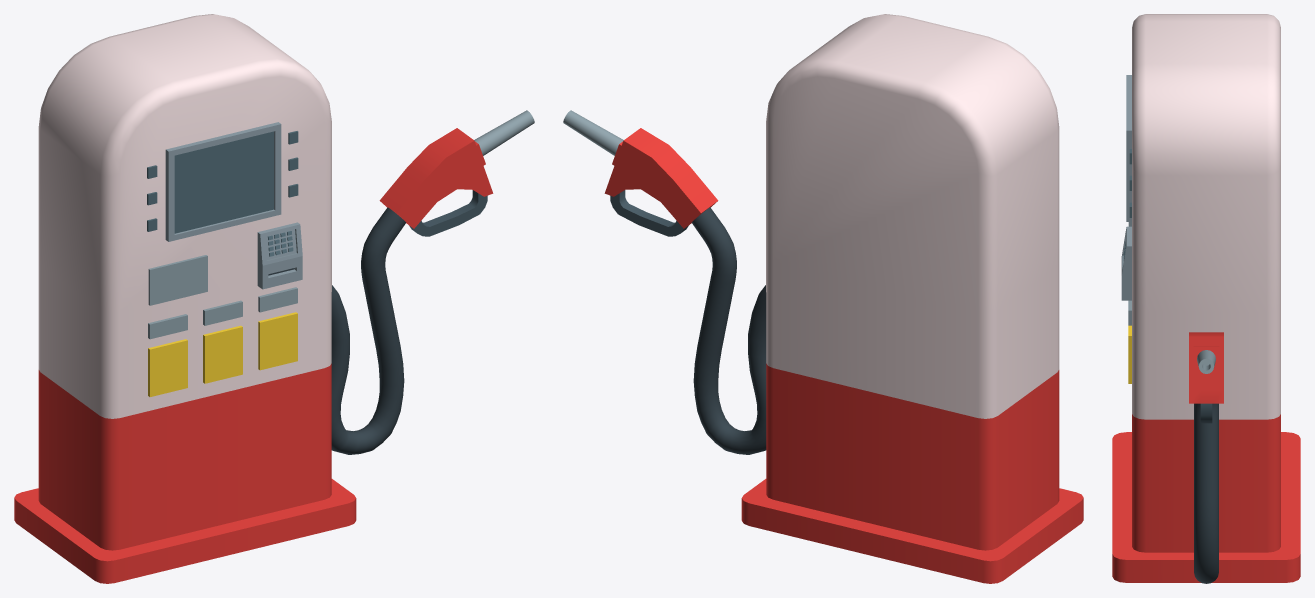
Rendered from fuel_pump.fbx.
The picture shows the model from 3 angles, left to right: view 1: azimuth 30°, elevation 25°; view 2: azimuth 150°, elevation 25°; view 3: azimuth 270°, elevation 25°; orthographic projection.
Parts seen in each view (by area): view 1: Cube.754; view 2: Cube.754; view 3: Cube.754.
Boxes of the visible parts, box(x1,y1,x2,y2) form: Cube.754: box(14, 14, 534, 583); Cube.754: box(563, 14, 1083, 583); Cube.754: box(1112, 14, 1300, 583).
Bounding box in the file's own units: 224 × 213 × 75.81.
Materials: 1 (1 with a texture image).
